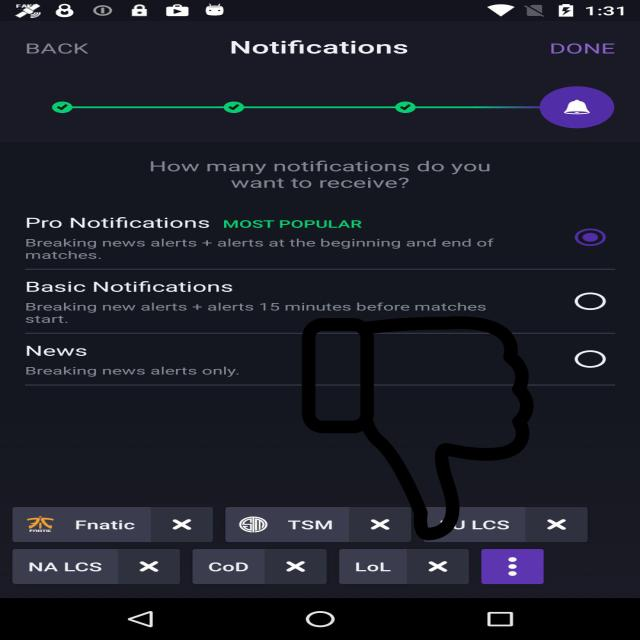obstruction: (299, 316, 537, 540)
